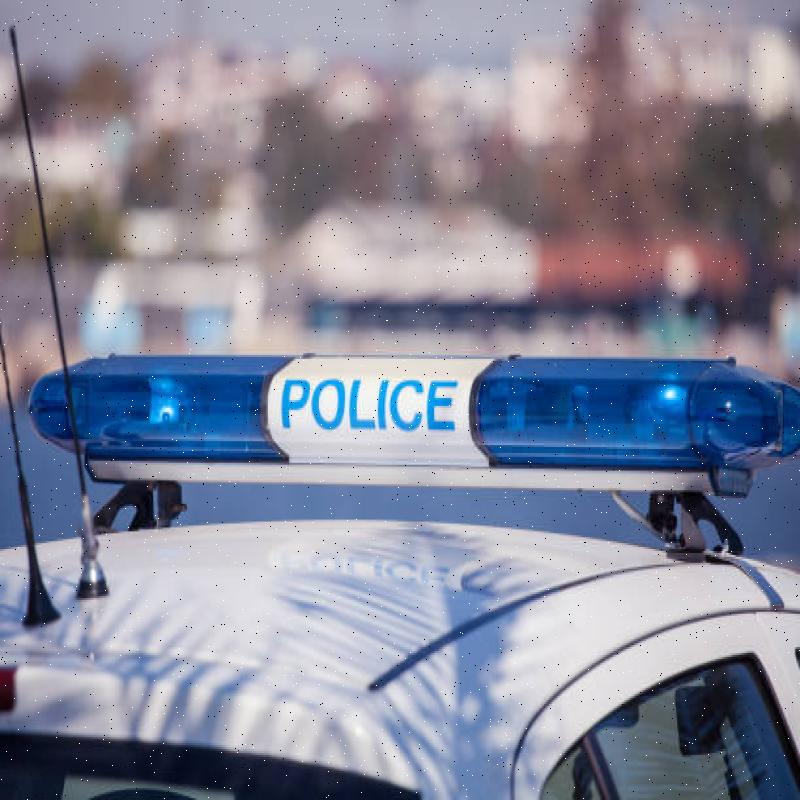AmbulanceSiren: (19, 304, 777, 497)
